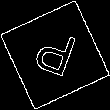P_S: (29, 25, 81, 85)
